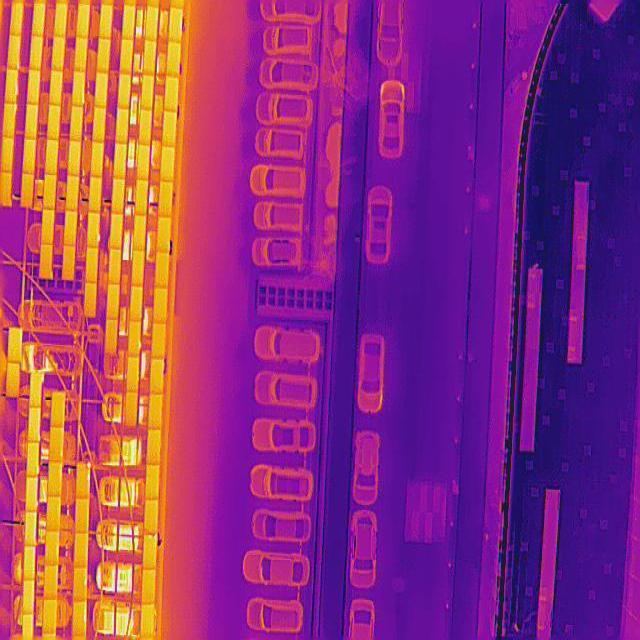Cell: (77, 462, 91, 498), (74, 568, 87, 602)
Cell-Multi: (144, 532, 157, 568)
No-Anomaly: (31, 2, 46, 38), (22, 139, 36, 175), (21, 172, 35, 208), (154, 288, 168, 324), (152, 322, 166, 358), (51, 392, 65, 428), (51, 36, 65, 72), (97, 38, 111, 74), (27, 70, 41, 106), (2, 102, 16, 138), (24, 104, 38, 140), (120, 37, 133, 75), (10, 2, 24, 36), (88, 178, 102, 212), (99, 4, 113, 38), (76, 4, 90, 38), (106, 284, 120, 318), (8, 328, 22, 362), (146, 464, 160, 498), (7, 36, 21, 70), (43, 600, 57, 634), (95, 74, 109, 108), (116, 108, 129, 144), (163, 110, 176, 146), (1, 136, 14, 172), (67, 175, 80, 211), (160, 180, 173, 216), (62, 246, 75, 282), (108, 248, 121, 284), (132, 250, 145, 286), (156, 252, 169, 288), (106, 318, 119, 354), (149, 394, 162, 430), (148, 428, 161, 464), (47, 496, 60, 532), (76, 498, 89, 534), (75, 532, 88, 568), (143, 568, 156, 604), (50, 69, 63, 105), (141, 74, 154, 110), (70, 106, 83, 142), (68, 140, 81, 175), (43, 175, 56, 210), (42, 210, 55, 245), (30, 35, 43, 70), (47, 105, 60, 140), (54, 4, 68, 36), (45, 140, 58, 174), (91, 142, 104, 176), (64, 212, 77, 246), (110, 215, 123, 249), (170, 8, 183, 42), (85, 248, 98, 282), (84, 282, 97, 316), (7, 362, 20, 396), (51, 428, 64, 462), (49, 462, 62, 496), (75, 38, 88, 72), (46, 532, 59, 566), (143, 40, 156, 74), (45, 566, 58, 600), (141, 602, 154, 636), (5, 70, 18, 104), (72, 72, 85, 106), (118, 74, 131, 108), (162, 146, 174, 182), (0, 172, 12, 208), (113, 178, 125, 214), (136, 180, 148, 216), (88, 212, 100, 248), (158, 216, 170, 252), (152, 358, 164, 394), (27, 442, 39, 478), (26, 476, 38, 512), (146, 498, 158, 534), (166, 76, 178, 112), (93, 109, 106, 142), (122, 6, 135, 39), (126, 392, 138, 427), (146, 8, 159, 40), (40, 245, 53, 277), (140, 110, 152, 144), (114, 144, 126, 178), (134, 216, 146, 250), (25, 512, 37, 546), (168, 42, 180, 76), (139, 144, 150, 180), (131, 285, 142, 321), (128, 357, 139, 392), (30, 373, 41, 408), (129, 323, 141, 355), (29, 408, 40, 442), (25, 546, 36, 580), (24, 580, 35, 614)
Unclassified: (73, 602, 87, 636)
